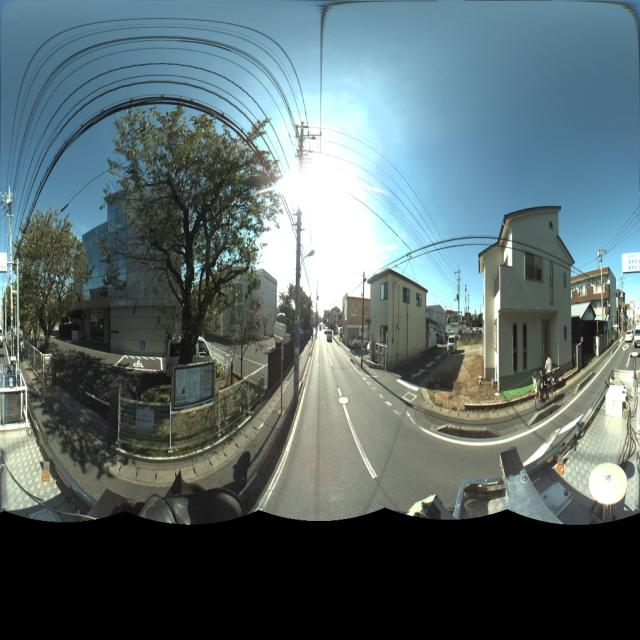b_1: (475, 195, 577, 389), (567, 249, 618, 363), (374, 266, 424, 367), (338, 285, 371, 344), (426, 298, 448, 342)
b_2: (68, 175, 199, 355), (199, 251, 281, 370)
